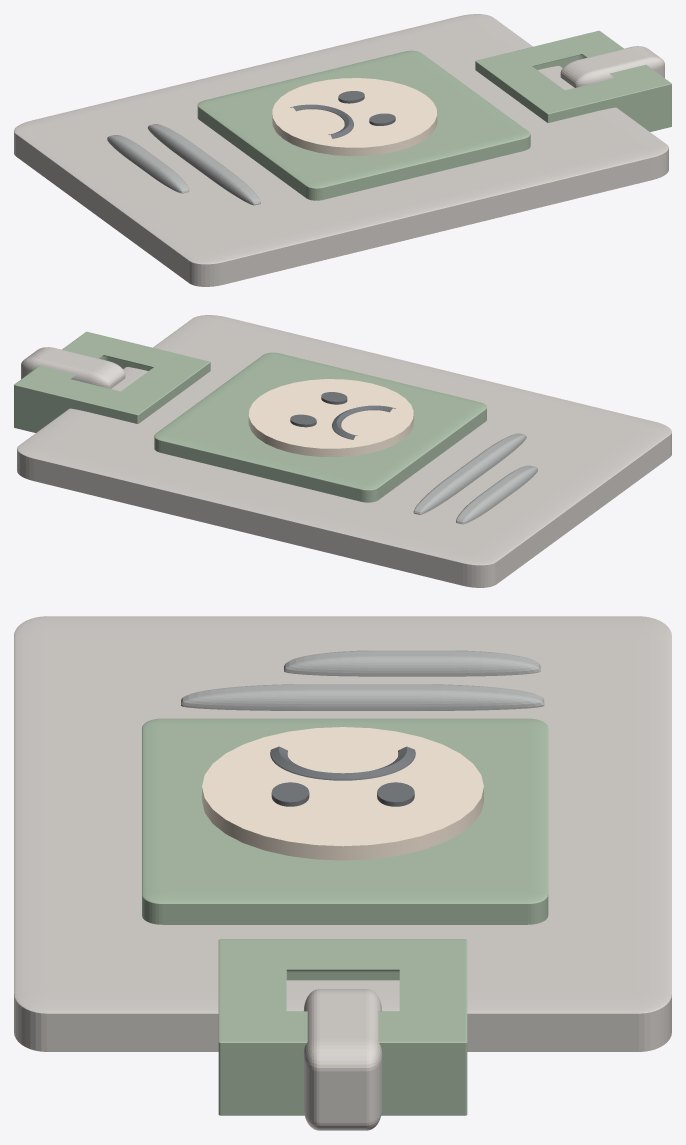
The model's file is IDCardNew.fbx.
3 views of the same model, one above another, from view 1: azimuth 30°, elevation 25°; view 2: azimuth 150°, elevation 25°; view 3: azimuth 270°, elevation 25° (orthographic). The views are drawn at different scales.
Parts seen in each view (by area): view 1: card, card.003, card.001, Cylinder, card.002, card.004, card.005, Torus; view 2: card, card.003, card.001, Cylinder, card.002, card.004, card.005, Torus; view 3: card, card.003, card.001, Cylinder, card.002, card.004, card.005, Torus, Cylinder.001, Cylinder.002.
Boxes of the visible parts, x1,y1,x2,y2 form: card: [14, 14, 668, 286]; card.003: [197, 50, 530, 200]; card.001: [475, 30, 671, 131]; Cylinder: [272, 78, 437, 156]; card.002: [560, 46, 664, 87]; card.004: [147, 124, 260, 205]; card.005: [107, 135, 189, 193]; Torus: [290, 104, 353, 138]; card: [17, 315, 671, 587]; card.003: [154, 352, 486, 502]; card.001: [14, 331, 210, 432]; Cylinder: [248, 379, 413, 457]; card.002: [21, 347, 125, 388]; card.004: [413, 433, 526, 514]; card.005: [456, 465, 537, 524]; Torus: [332, 405, 395, 439]; card: [14, 616, 671, 1051]; card.003: [142, 718, 548, 924]; card.001: [218, 939, 467, 1115]; Cylinder: [202, 727, 483, 860]; card.002: [303, 989, 382, 1130]; card.004: [181, 684, 544, 710]; card.005: [284, 650, 540, 676]; Torus: [270, 746, 415, 780]; Cylinder.001: [377, 782, 414, 806]; Cylinder.002: [271, 782, 309, 806].
Size of the model in its own units: 23.24 by 2.49 by 14.
